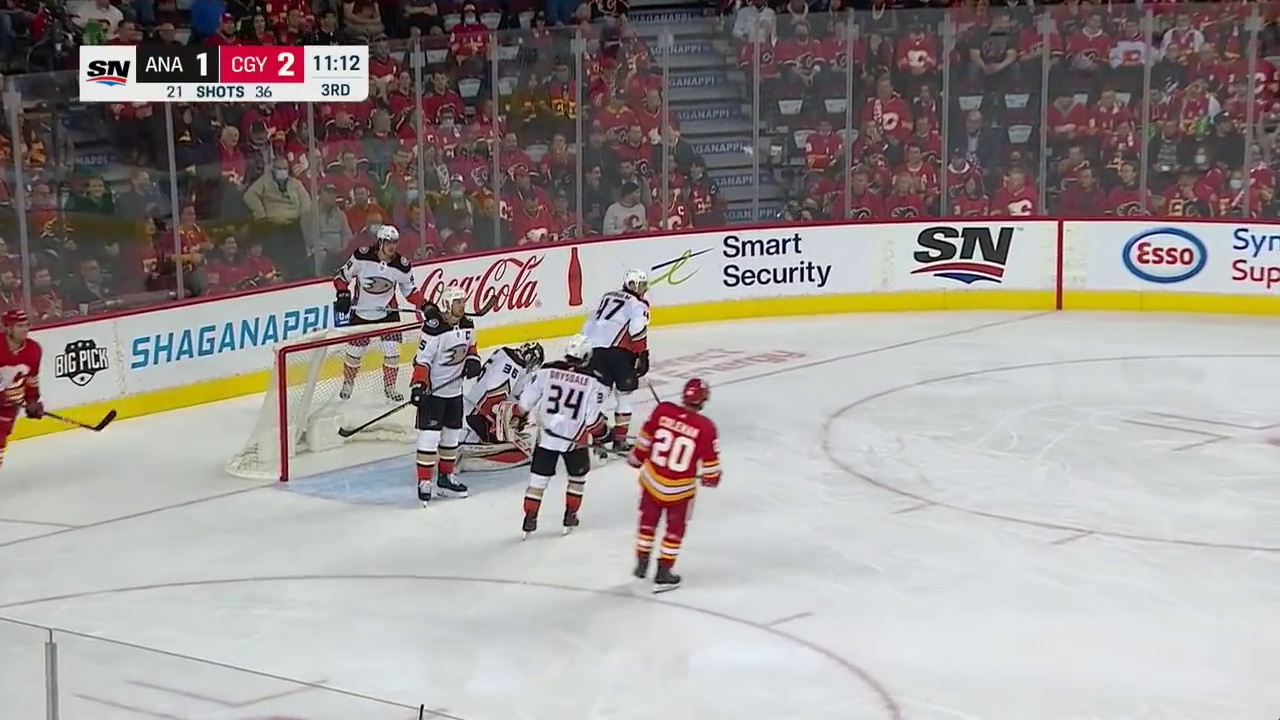goalie: (451, 341, 545, 473)
hockeyplayer: (510, 334, 614, 541), (626, 377, 723, 593), (333, 224, 440, 406), (410, 285, 481, 508), (582, 269, 651, 465)
referee: (1, 309, 43, 473)
